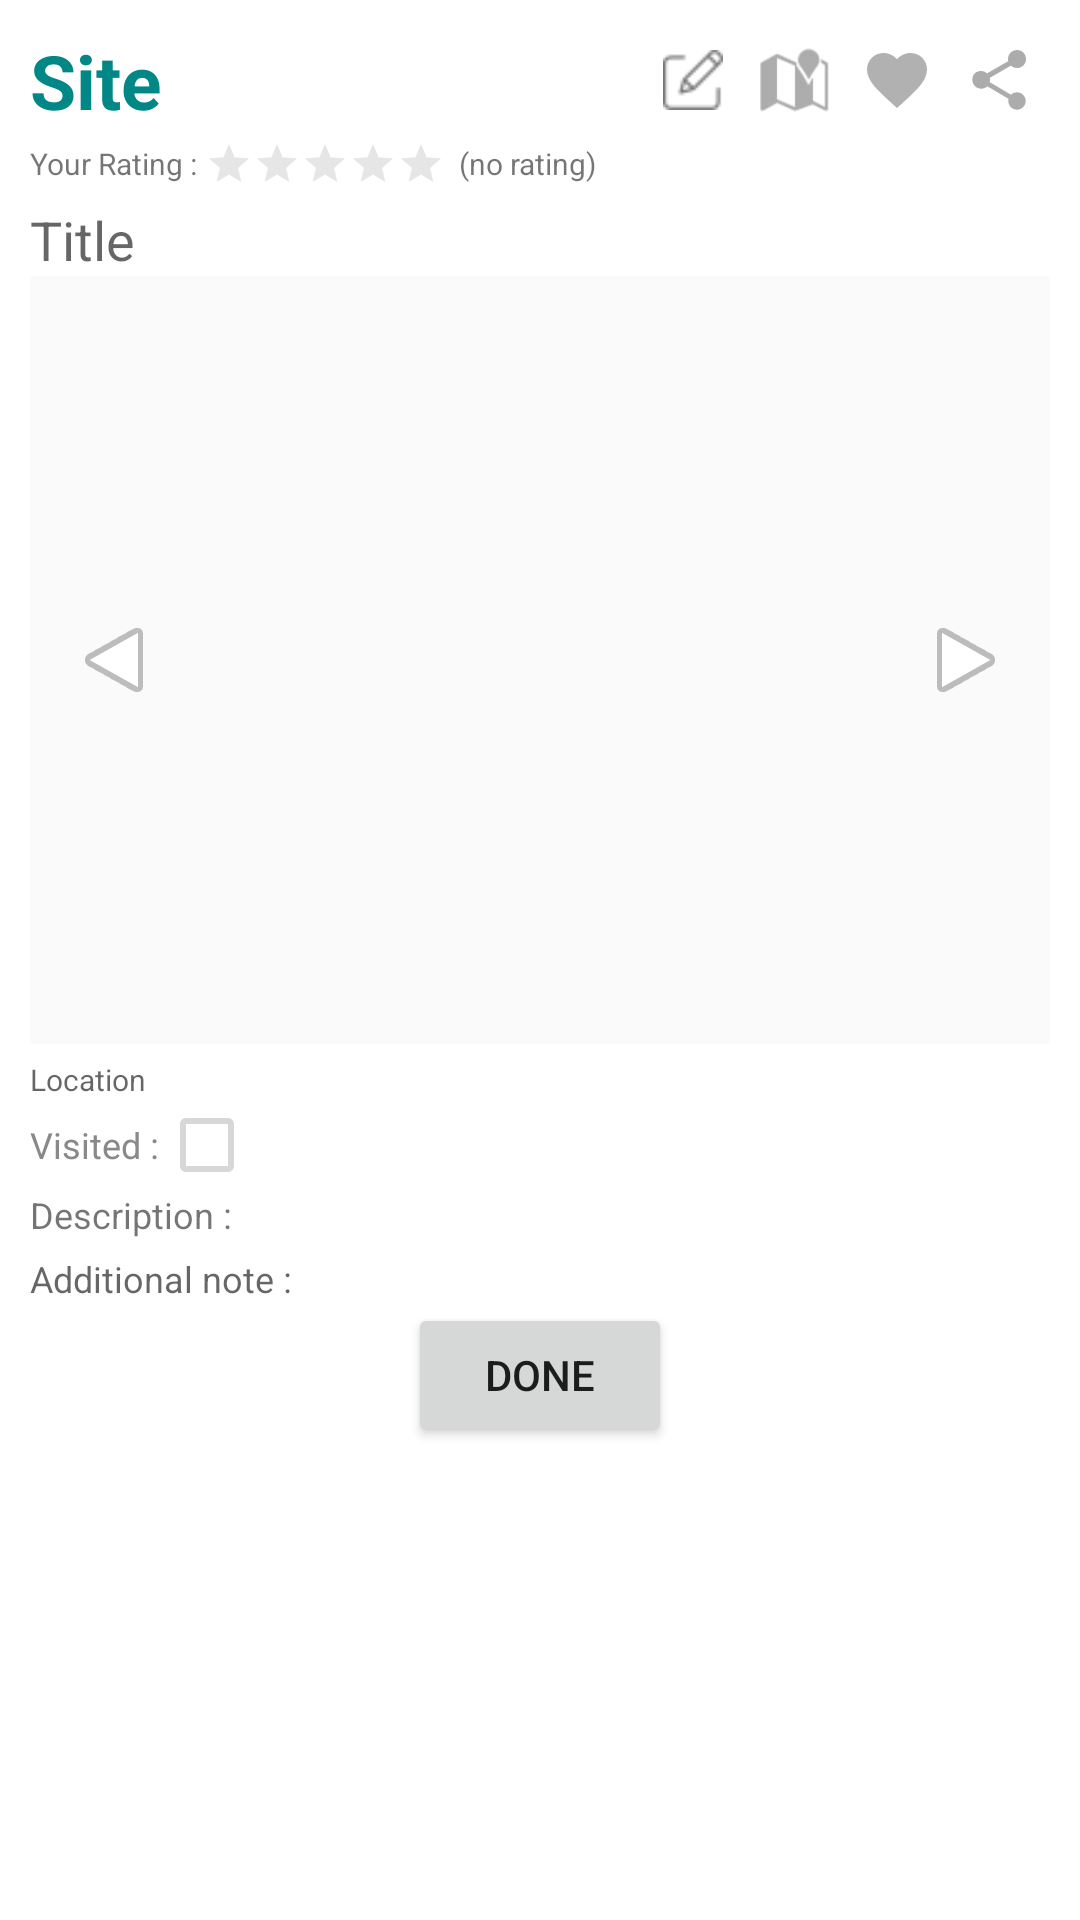

Point at icon controls on the screen. Image size 1080×1920, points as point (x, y).
edit: point (693, 80)
favorite: point (897, 80)
map: point (794, 80)
